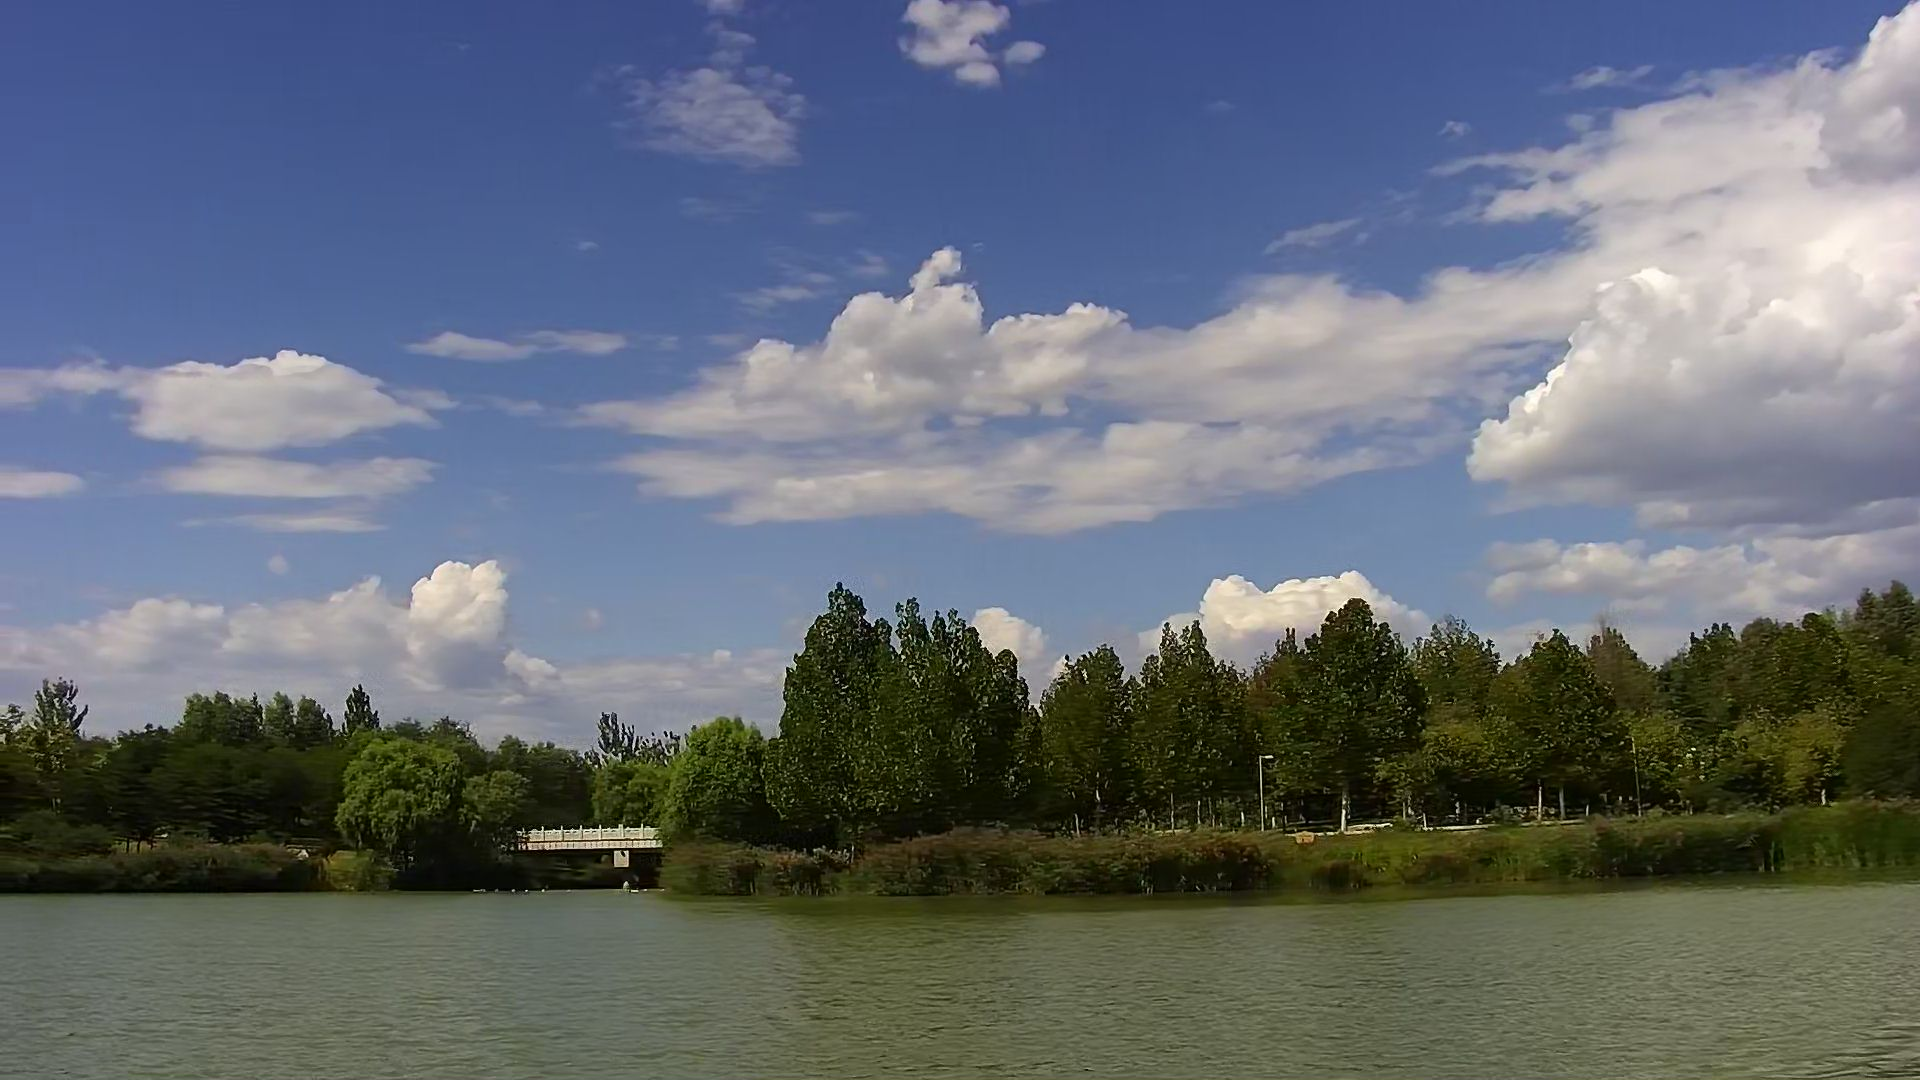bridge: (520, 819, 665, 889)
